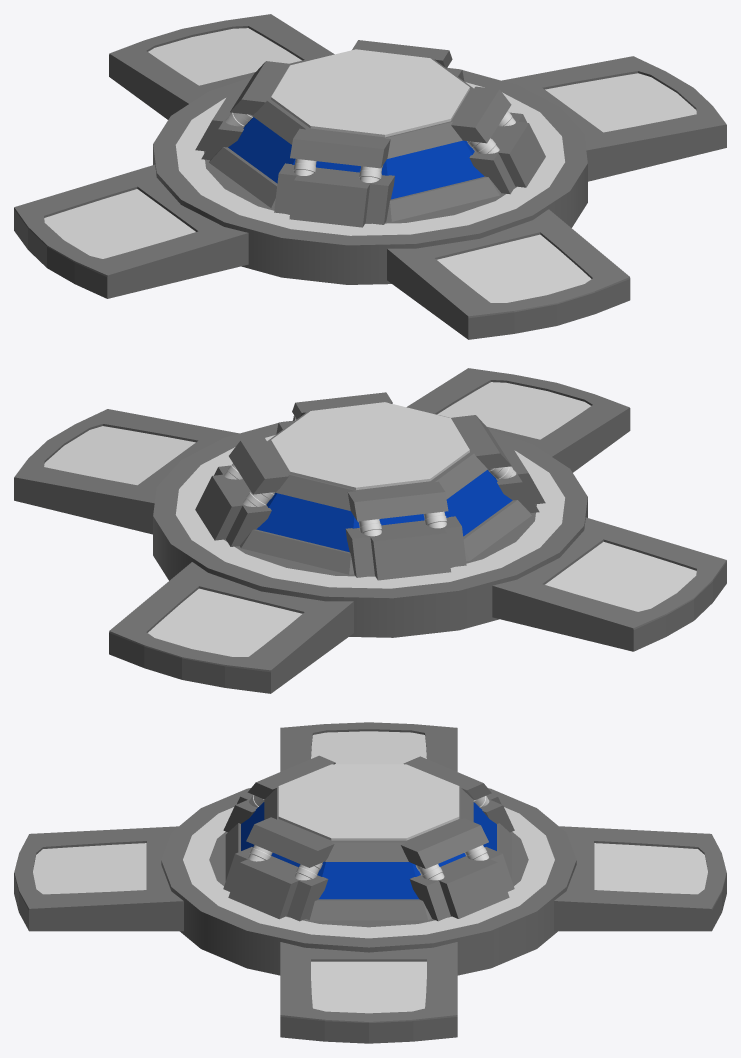
The model's file is turretBase.fbx.
3 views of the same model, one above another, from view 1: azimuth 30°, elevation 25°; view 2: azimuth 150°, elevation 25°; view 3: azimuth 270°, elevation 25° (orthographic). The views are drawn at different scales.
Visible parts, largest first — view 1: pCylinder39; view 2: pCylinder39; view 3: pCylinder39.
Boxes of the visible parts, x1,y1,x2,y2 form: pCylinder39: (14,14,726,339); pCylinder39: (14,368,726,693); pCylinder39: (14,722,726,1043).
Size of the model in its own units: 4 by 0.5972 by 4.02.
